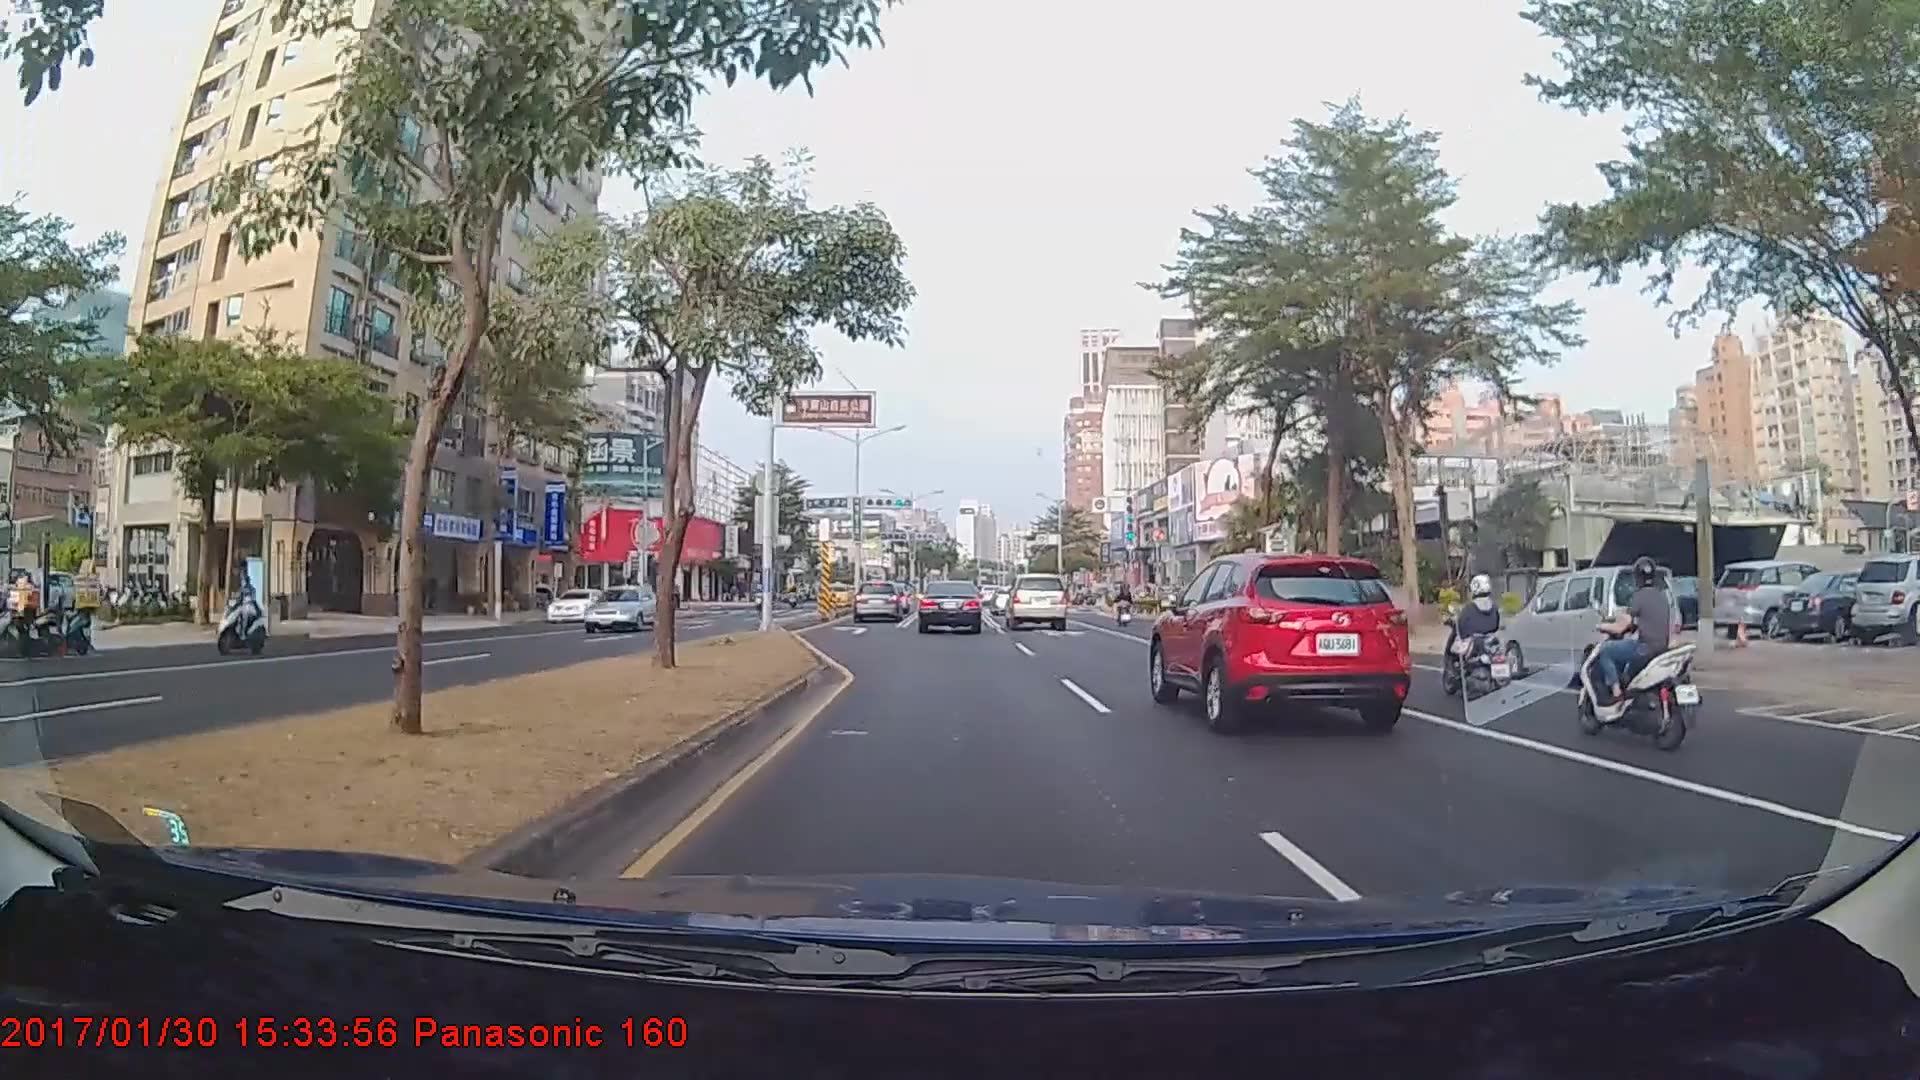rider: (1563, 554, 1702, 746), (1431, 572, 1528, 714), (211, 572, 272, 658), (1115, 587, 1138, 630)
vehicle: (1151, 545, 1413, 726), (1504, 564, 1683, 691), (1712, 561, 1842, 638), (581, 582, 662, 631), (1003, 573, 1068, 630), (918, 580, 982, 634), (852, 579, 915, 623), (546, 587, 612, 621)
